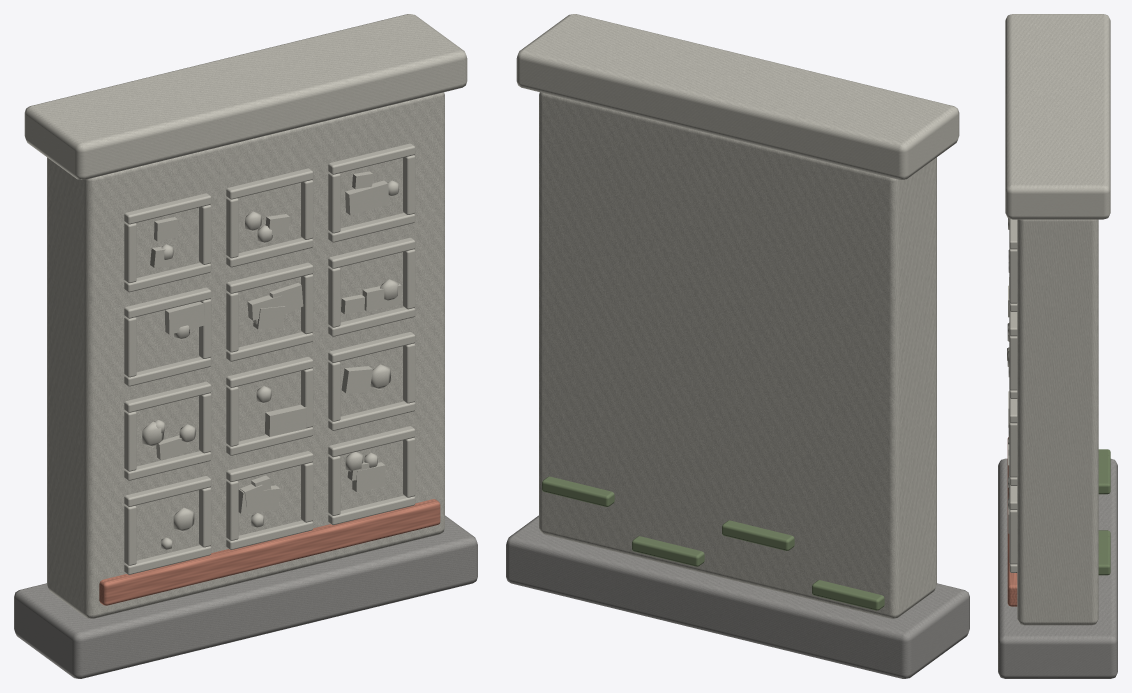
Rendered from jungle-temple-and-stone-city-glyph-panel-d08c0c92__36127.glb.
3 renders of one model, left to right at view 1: azimuth 30°, elevation 25°; view 2: azimuth 150°, elevation 25°; view 3: azimuth 270°, elevation 25°, orthographic. The views are drawn at different scales.
Parts seen in each view (by area): view 1: glyph-panel; view 2: glyph-panel; view 3: glyph-panel.
Part boxes in pixels (x1=…): glyph-panel: x1=14, y1=14, x2=477, y2=678; glyph-panel: x1=506, y1=14, x2=969, y2=678; glyph-panel: x1=998, y1=14, x2=1117, y2=678.
Size of the model in its own units: 1.8 by 2.26 by 0.4999.
Materials: 4 (4 with a texture image).
